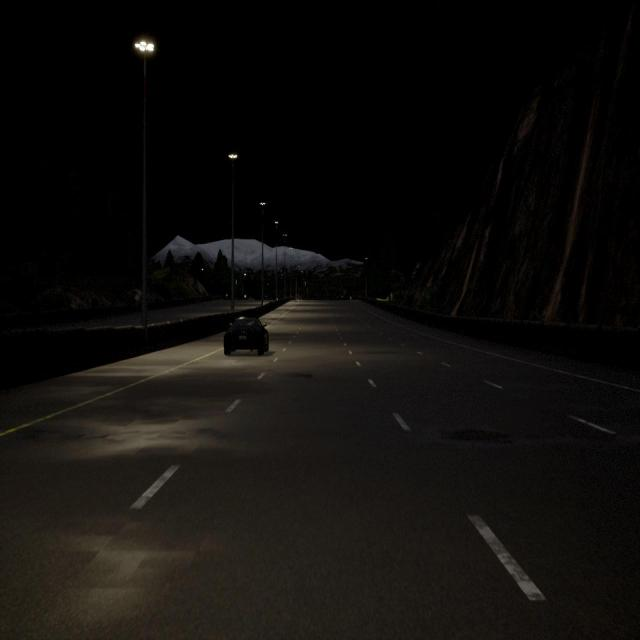Traffic_Signs: (136, 295, 140, 300)
Vehicle: (224, 317, 268, 356)
